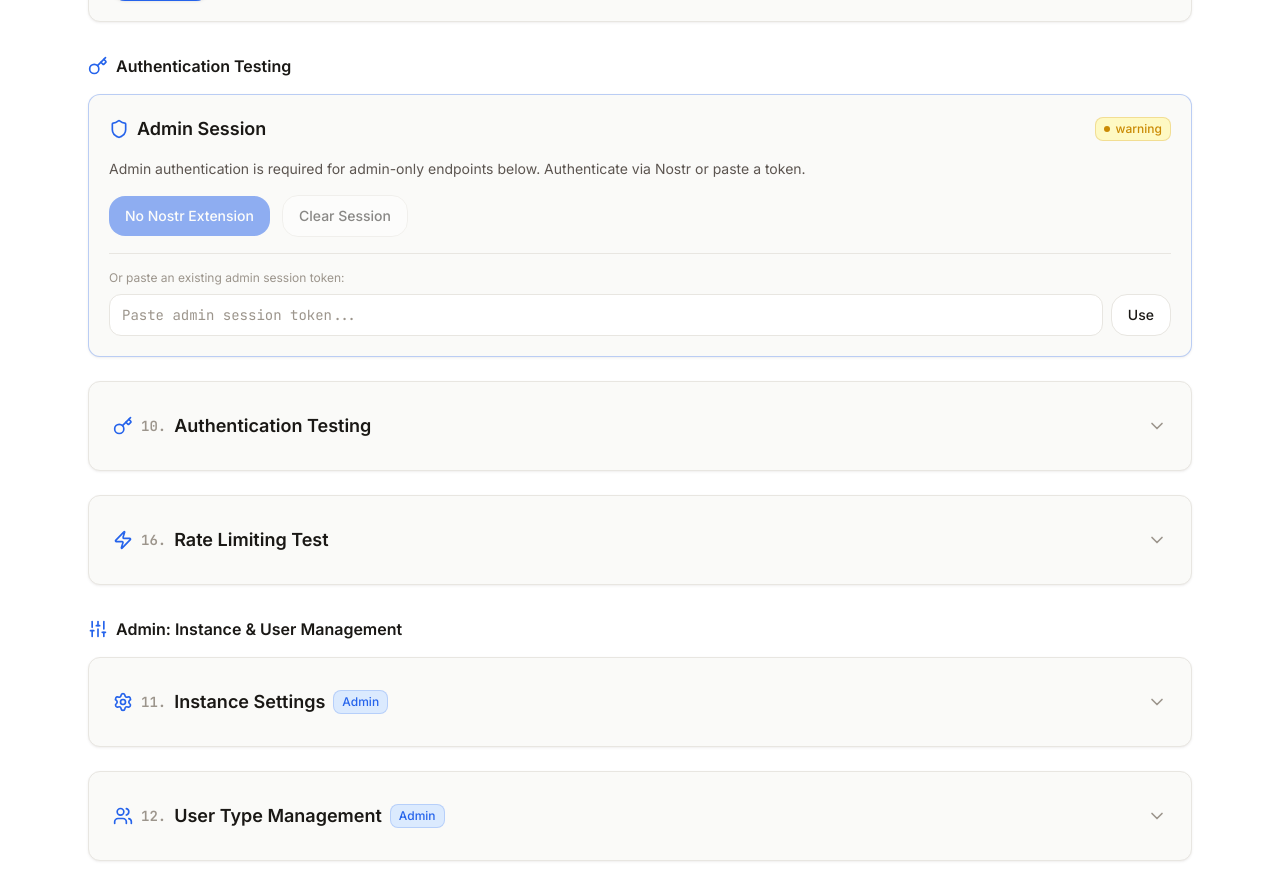
Test: TestDashboard › toggles migrated admin dashboard sections through their accessible header
(page scrolled)
What coordinates should you click on to do the following:
click the button "10. Authentication Testing"
I would click on:
 (273, 426)
Its box is [113,406,1167,446].
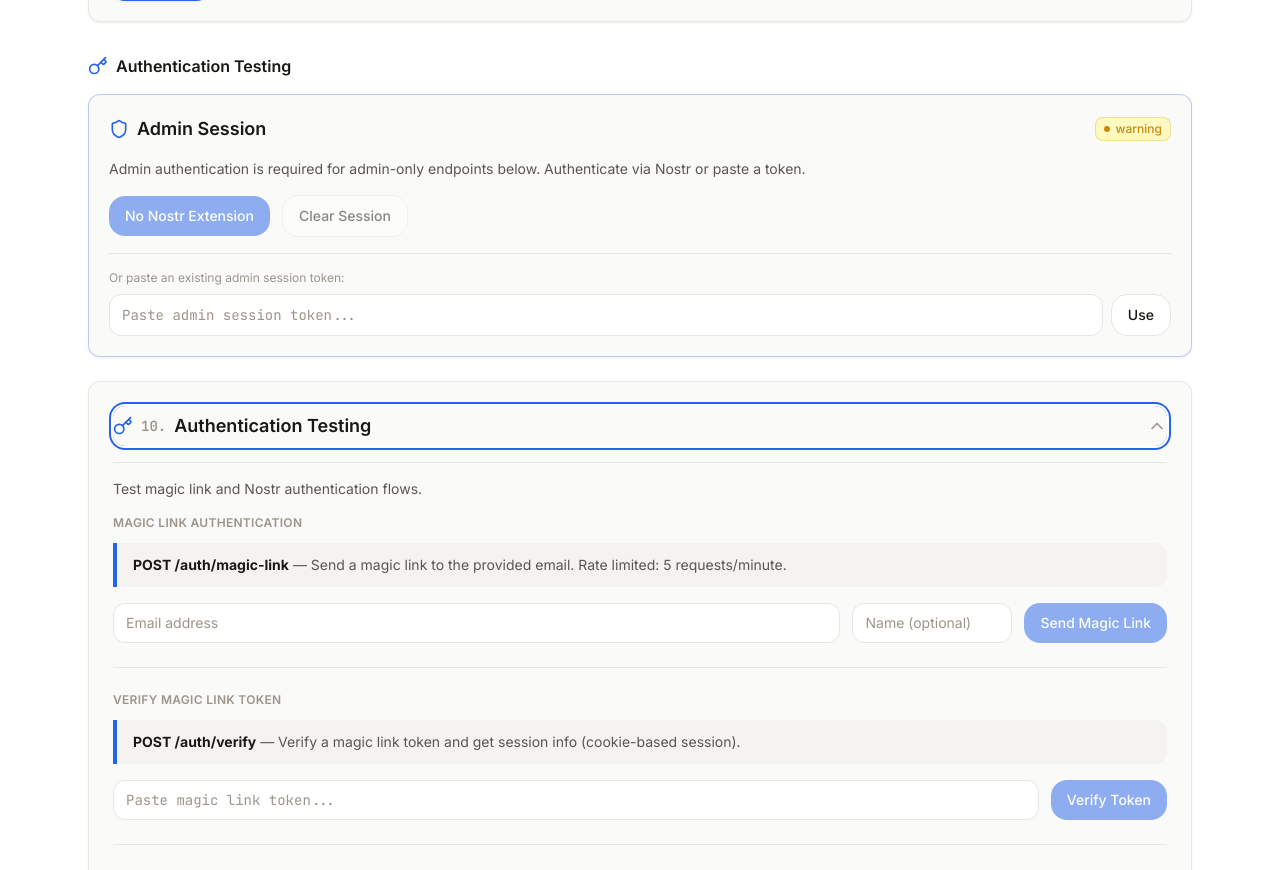
Expected: the button "10. Authentication Testing" is expanded
Expected: the text "Magic Link Authentication" is shown, [113,515,302,530]
What coordinates should you click on to do the following:
click the button "10. Authentication Testing"
I would click on:
 (273, 426)
Its box is [113,406,1167,446].
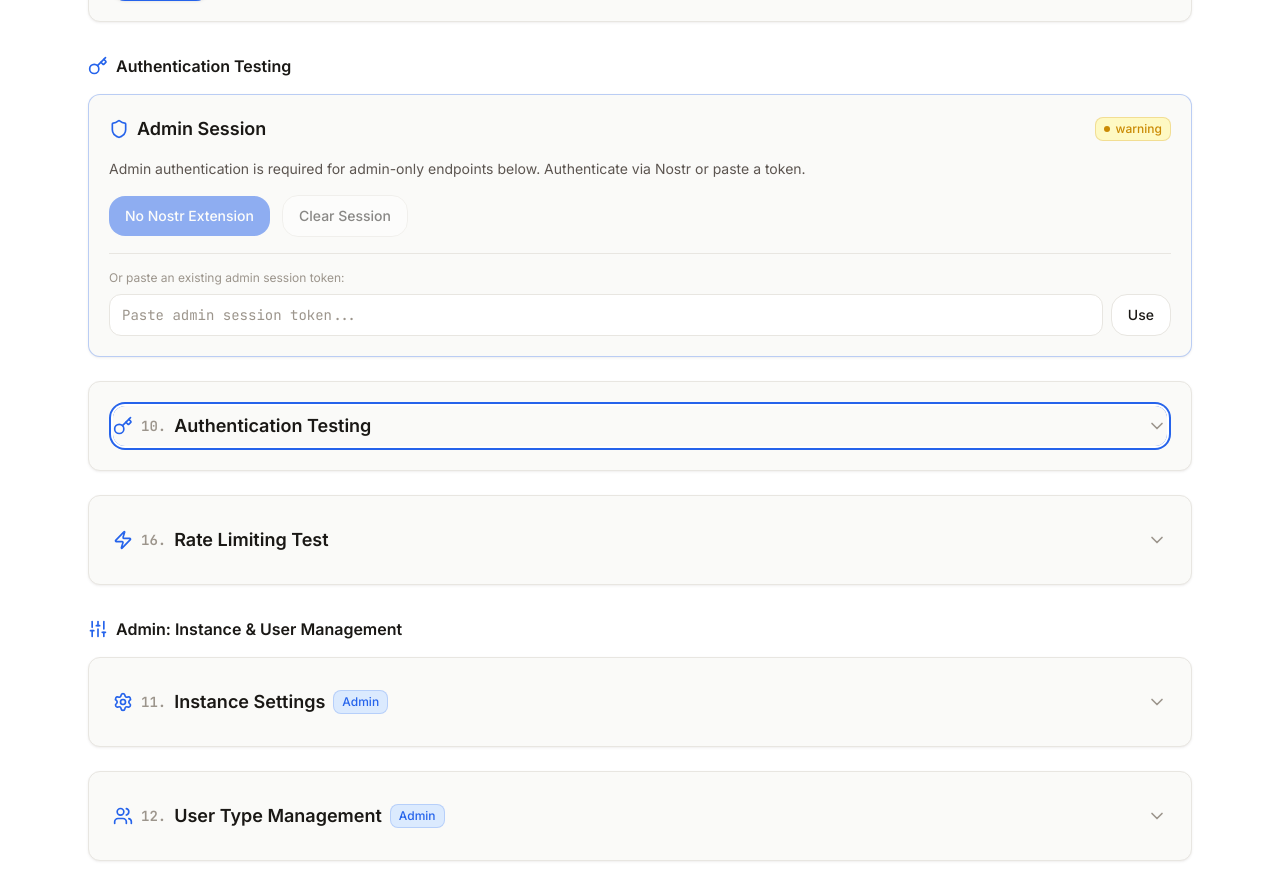
Expected: the button "10. Authentication Testing" is collapsed, [113,406,1167,446]
